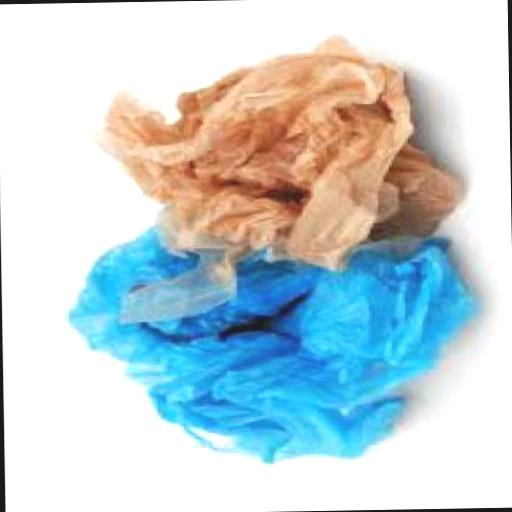plastic: (91, 32, 460, 324), (62, 218, 482, 464)
